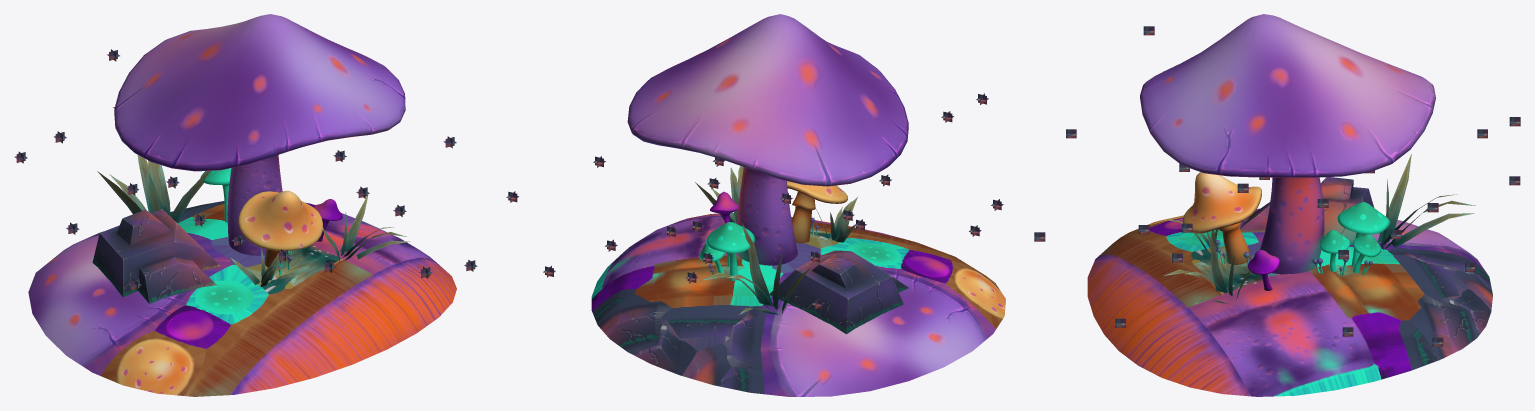
The model's file is mushroms_2.fbx.
The picture shows the model from 3 angles, left to right: view 1: azimuth 30°, elevation 25°; view 2: azimuth 150°, elevation 25°; view 3: azimuth 270°, elevation 25°; orthographic projection. The views are drawn at different scales.
Visible parts, largest first — view 1: Plane, Circle, Cube.001, Circle.001, Plane.002, Plane.004, Cube, Plane.003, Plane.001, Circle.002, Circle.005; view 2: Plane, Circle, Cube.001, Plane.004, Circle.001, Plane.002, Circle.002, Cube, Plane.001, Plane.003, Circle.005; view 3: Plane, Circle, Circle.001, Plane.004, Plane.002, Cube.001, Circle.002, Plane.003, Circle.005, Cube, Circle.004, Circle.006.
Boxes of the visible parts, x1,y1,x2,y2 form: Plane: (28,201,456,396); Circle: (114,14,405,255); Cube.001: (92,209,220,303); Circle.001: (238,190,322,269); Plane.002: (97,155,210,223); Plane.004: (14,49,477,290); Cube: (116,209,172,245); Plane.003: (323,194,410,262); Plane.001: (230,248,292,286); Circle.002: (200,168,231,222); Circle.005: (313,199,342,241); Plane: (591,213,1005,396); Circle: (627,14,908,265); Cube.001: (769,250,908,334); Plane.004: (506,93,1003,309); Circle.001: (787,181,847,243); Plane.002: (701,222,809,314); Circle.002: (706,222,755,280); Cube: (812,254,865,288); Plane.001: (816,197,857,242); Plane.003: (695,165,743,223); Circle.005: (710,191,738,223); Plane: (1087,208,1492,396); Circle: (1140,14,1435,274); Circle.001: (1182,172,1261,264); Plane.004: (1034,26,1520,346); Plane.002: (1361,154,1475,249); Cube.001: (1240,187,1374,245); Circle.002: (1337,202,1390,266); Plane.003: (1163,232,1252,304); Circle.005: (1248,250,1279,290); Cube: (1320,177,1353,200); Circle.004: (1319,230,1350,271); Circle.006: (1352,234,1381,272).
Size of the model in its own units: 583 by 417 by 599.
